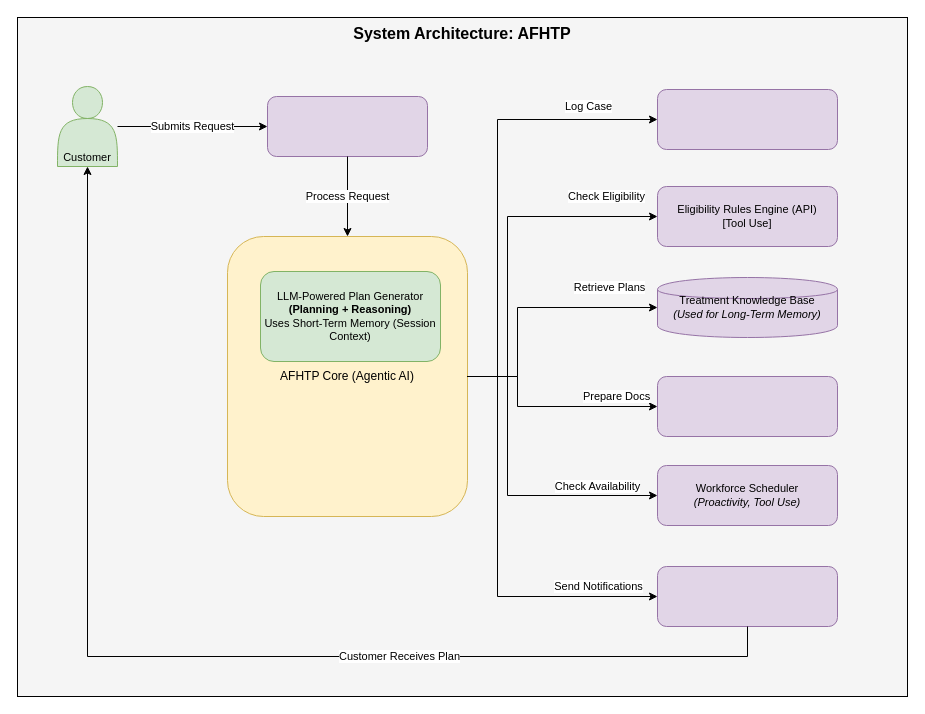
Image size: 925x714. Some labels were removed from this diagram. The shapes that lost their labels are listed below. From the top down, each one's centre as x and y in pixels, then its label:
At (x=347, y=126): "Customer Hardship Portal".
At (x=747, y=119): "CRM / Case Management (Tool Use, Memory Sync)".
At (x=747, y=406): "DocuSign Integration (Tool Use)".
At (x=747, y=596): "Comms Engine (Reactive + Proactive Comms via LLM)".
